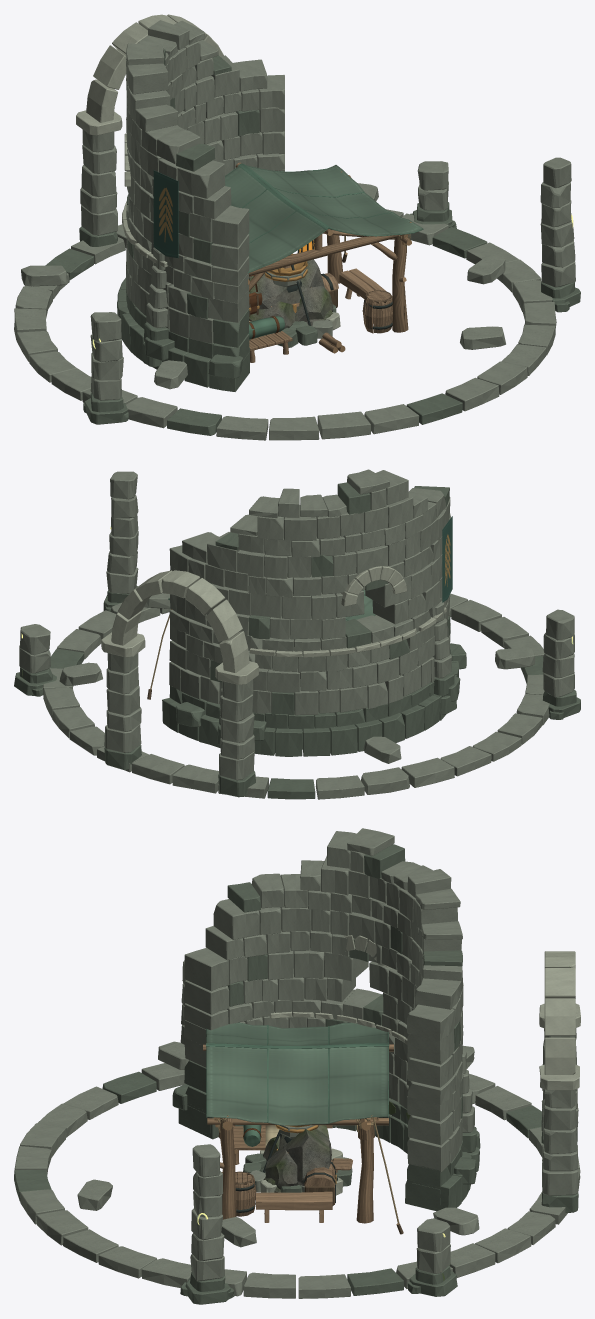
Rendered from camp-low-r10.glb.
3 views of the same model, one above another, from view 1: azimuth 30°, elevation 25°; view 2: azimuth 150°, elevation 25°; view 3: azimuth 270°, elevation 25° (orthographic). The views are drawn at different scales.
Parts seen in each view (by area): view 1: watchtower_r8_mesh, moonSanctum_r8_mesh, campShelter_r10_mesh, hearth_r8_mesh, boulder_r10_mesh, boulderLow_r10_mesh, relicStand_r8_mesh; view 2: watchtower_r8_mesh, moonSanctum_r8_mesh, campShelter_r10_mesh; view 3: watchtower_r8_mesh, moonSanctum_r8_mesh, campShelter_r10_mesh, hearth_r8_mesh, boulderLow_r10_mesh, boulder_r10_mesh.
Part boxes in pixels (left/top/right/bottom): watchtower_r8_mesh: left=21, top=20, right=505, bottom=391; moonSanctum_r8_mesh: left=14, top=14, right=580, bottom=440; campShelter_r10_mesh: left=225, top=162, right=423, bottom=362; hearth_r8_mesh: left=277, top=255, right=392, bottom=347; boulder_r10_mesh: left=249, top=273, right=333, bottom=329; boulderLow_r10_mesh: left=249, top=259, right=332, bottom=328; relicStand_r8_mesh: left=264, top=253, right=308, bottom=331; watchtower_r8_mesh: left=59, top=469, right=535, bottom=763; moonSanctum_r8_mesh: left=14, top=471, right=580, bottom=799; campShelter_r10_mesh: left=147, top=590, right=375, bottom=699; watchtower_r8_mesh: left=77, top=828, right=480, bottom=1247; moonSanctum_r8_mesh: left=14, top=951, right=580, bottom=1304; campShelter_r10_mesh: left=203, top=1022, right=403, bottom=1234; hearth_r8_mesh: left=243, top=1125, right=352, bottom=1222; boulderLow_r10_mesh: left=264, top=1128, right=331, bottom=1192; boulder_r10_mesh: left=263, top=1125, right=329, bottom=1189.
Size of the model in its own units: 14.11 by 7.64 by 13.48.
6 materials, 6 textured.
